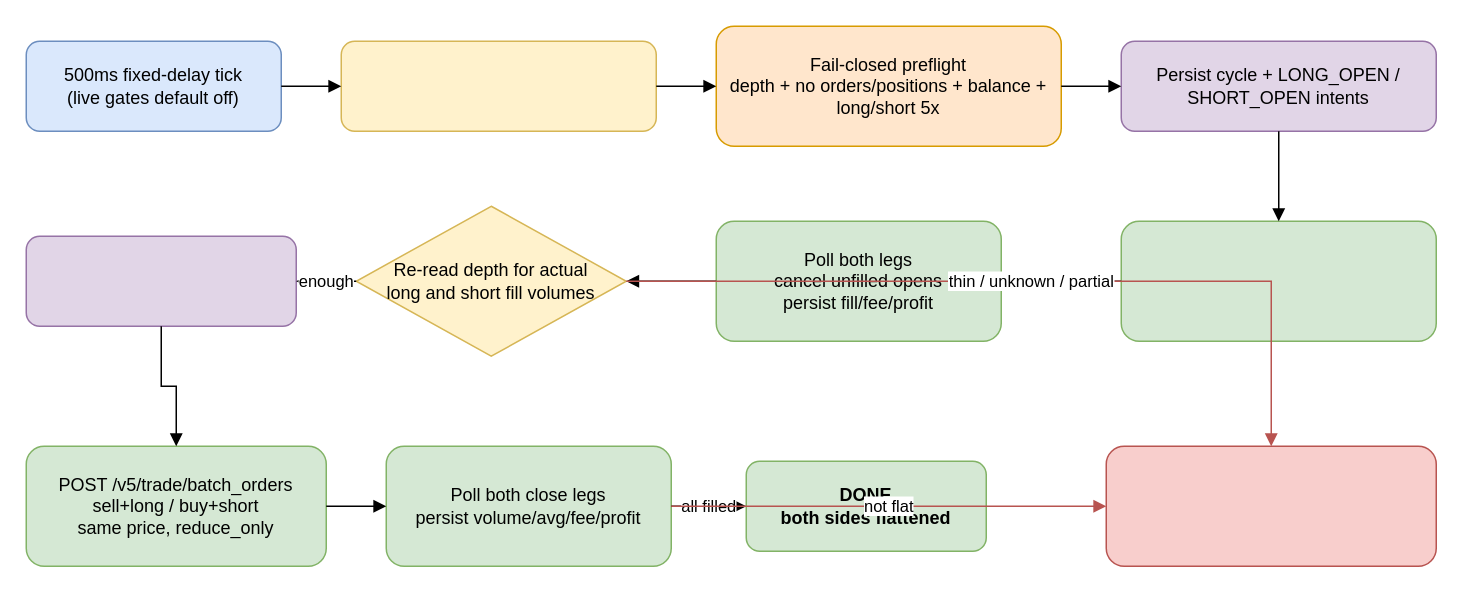
This 1463x593 diagram has some shape labels left out. Here are the shapes that lost their labels. From the top down, the centre of each, then its label:
point (498, 85): One market snapshot common openPrice + common closePrice
point (160, 280): Persist LONG_CLOSE / SHORT_CLOSE intents
point (1278, 280): POST /v5/trade/batch_orders buy+long / sell+short same price, cancel_both
point (1270, 505): EXPOSURE / CLOSE_PENDING block next cycle; reconcile before new open
